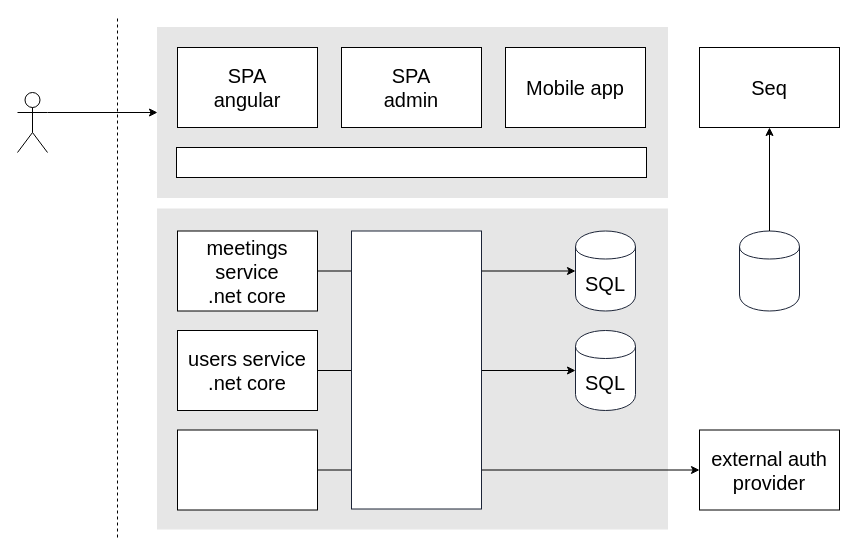
Some shapes in this 857 by 556 pixel diagram are drawn without their labels. The shapes that lost their labels are listed below. From the top down, each one's centre as x and y in pixels, then its label:
(x=411, y=162): shared js code base
(x=769, y=270): Logs
(x=416, y=369): Redis cache
(x=247, y=469): auth service .net core
